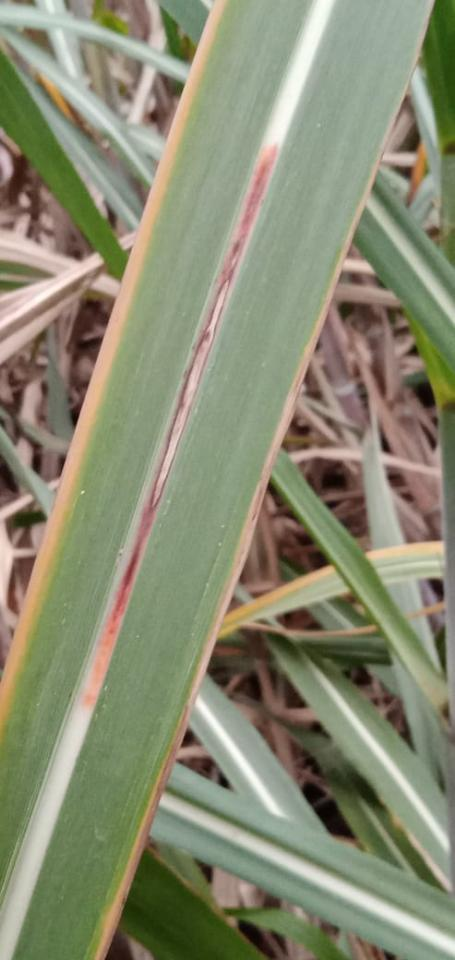RedRot: (79, 144, 279, 711)
Yellow: (94, 12, 432, 959), (0, 0, 228, 723)
